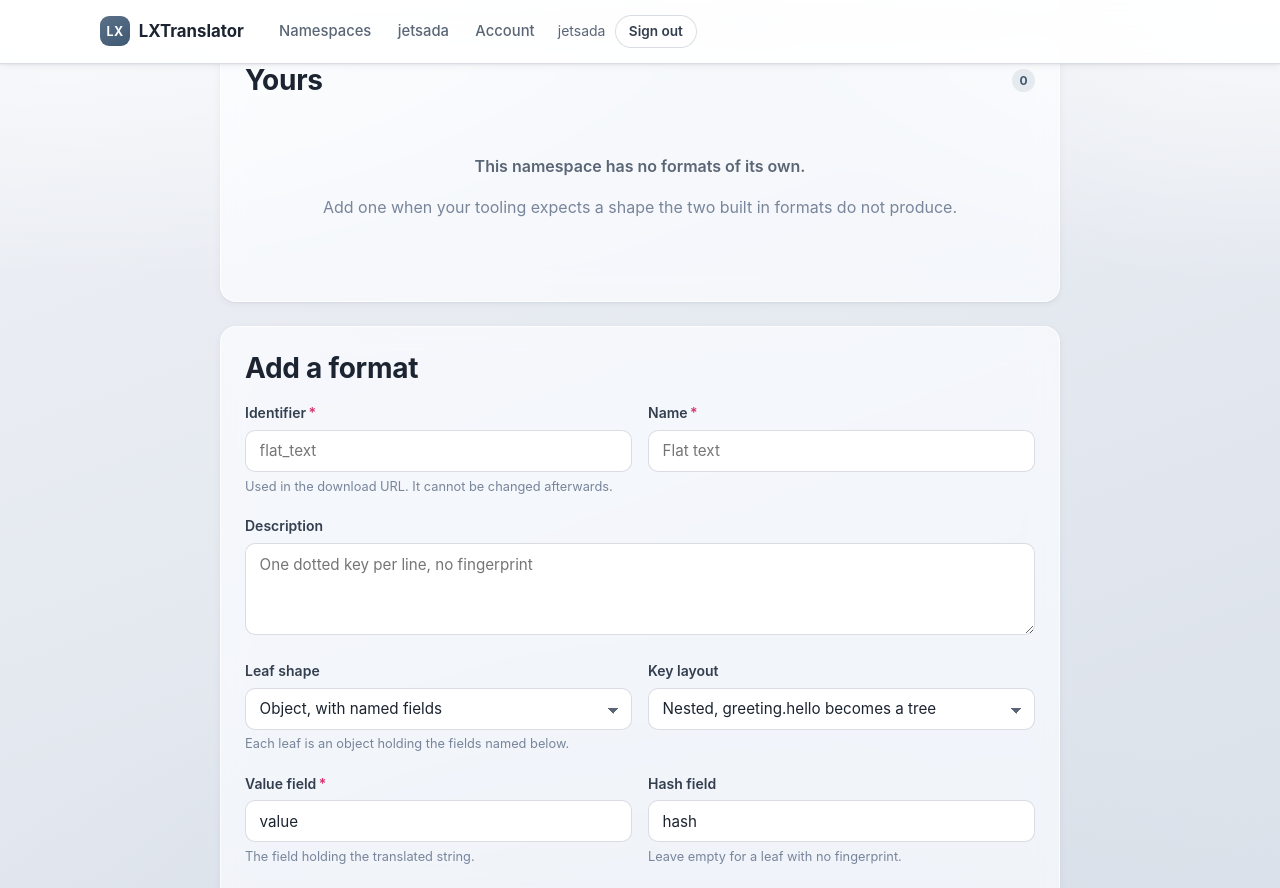
Test: export formats › managing them › refuses the same name for the value and the hash
(page scrolled)
Type "collided" into the field labelled "Identifier*" at {"x": 438, "y": 451}, box [245,430,632,472]
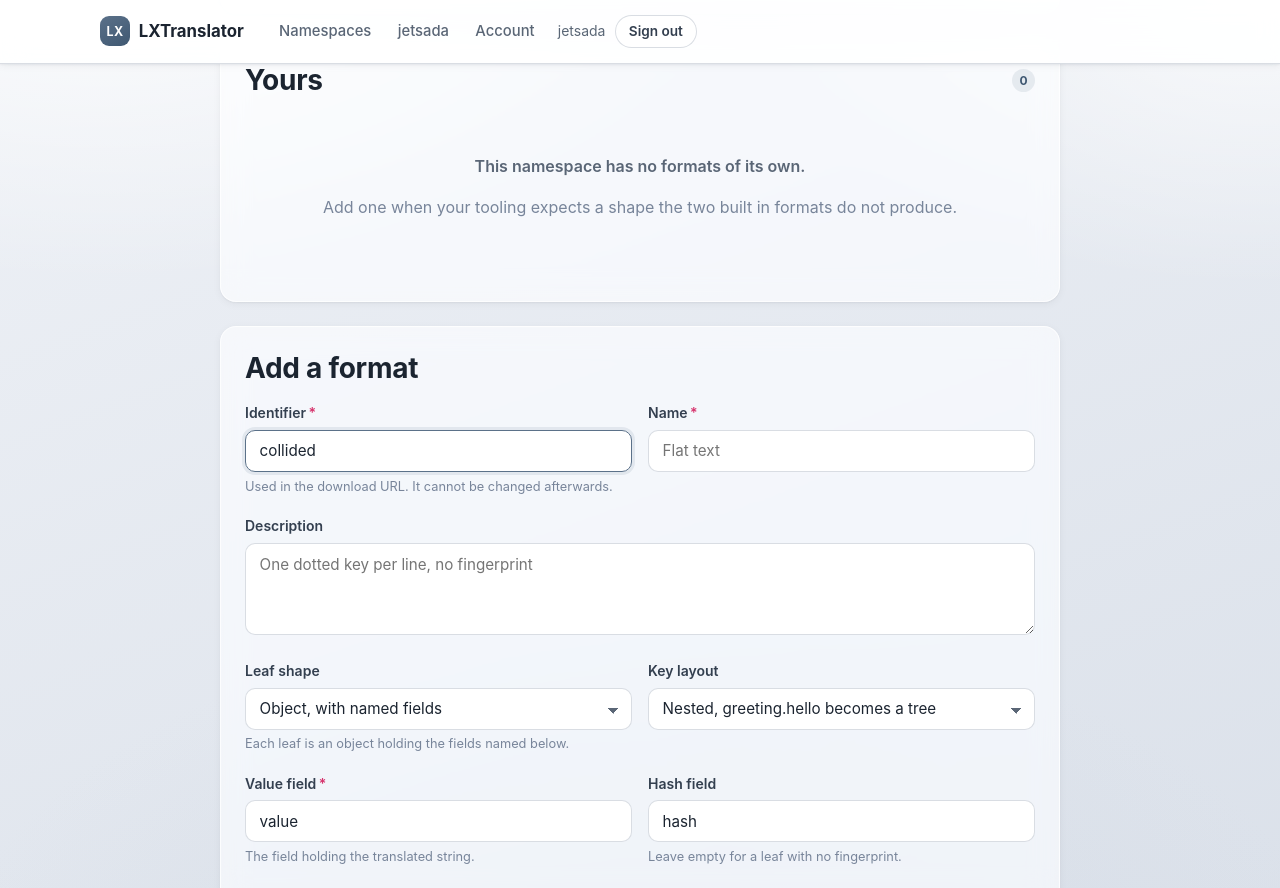
Type "Collided" into the field labelled "Name*" at {"x": 842, "y": 451}, box [648,430,1035,472]
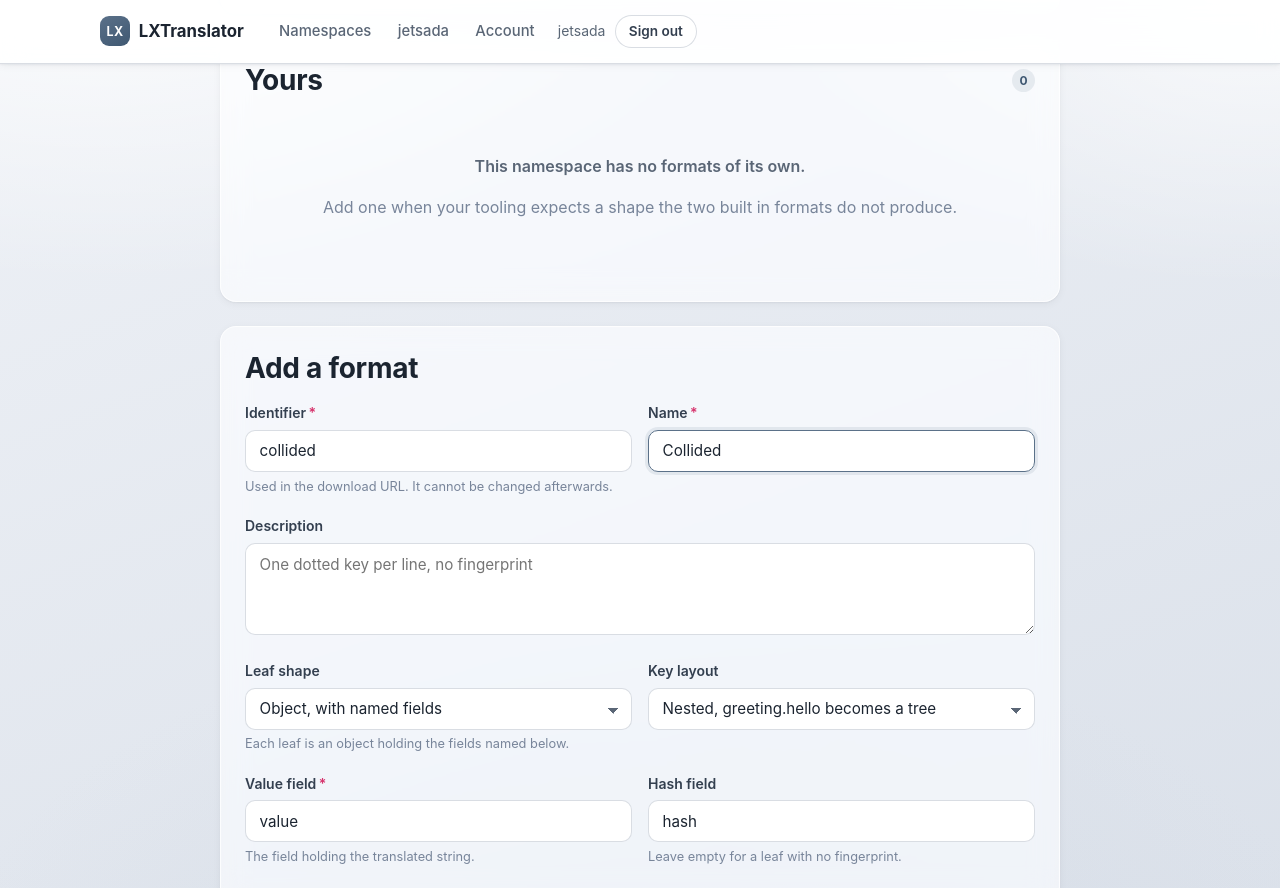
Type "value" into the field labelled "Hash field" at {"x": 842, "y": 821}, box [648,800,1035,842]
(page scrolled)
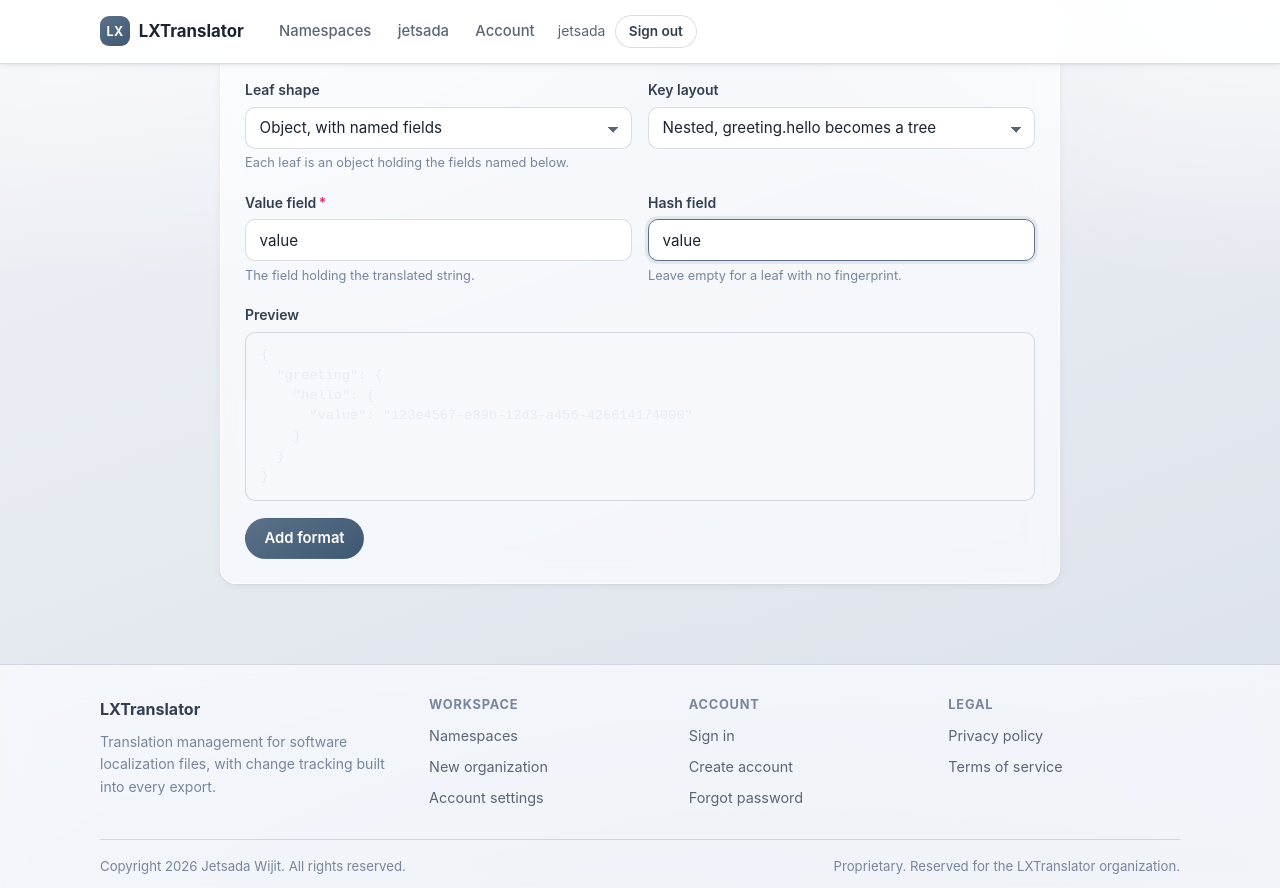
Click the button "Add format" at {"x": 304, "y": 539}, box [245,518,364,559]
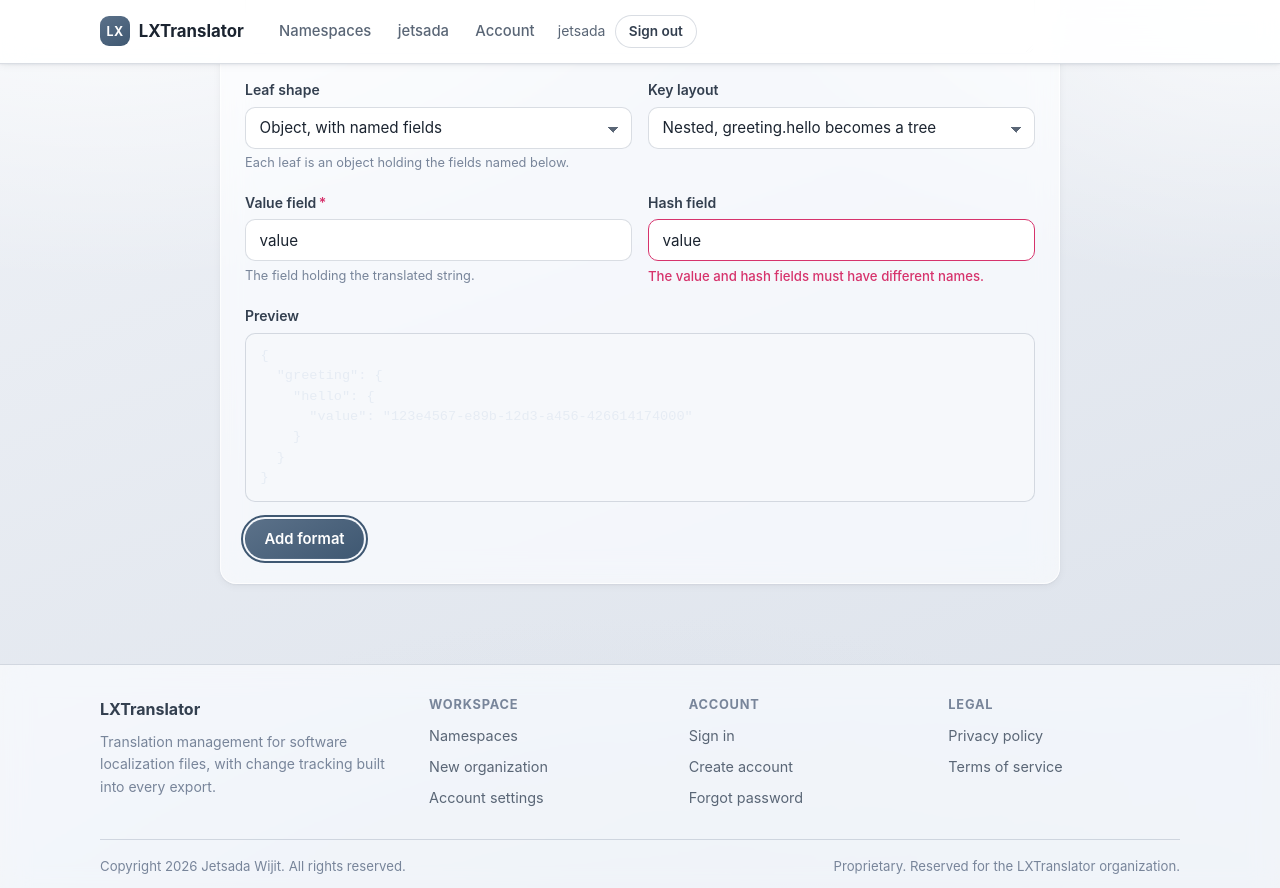
Check: the text "The value and hash fields must have different names." is shown, box [648,266,1035,287]
